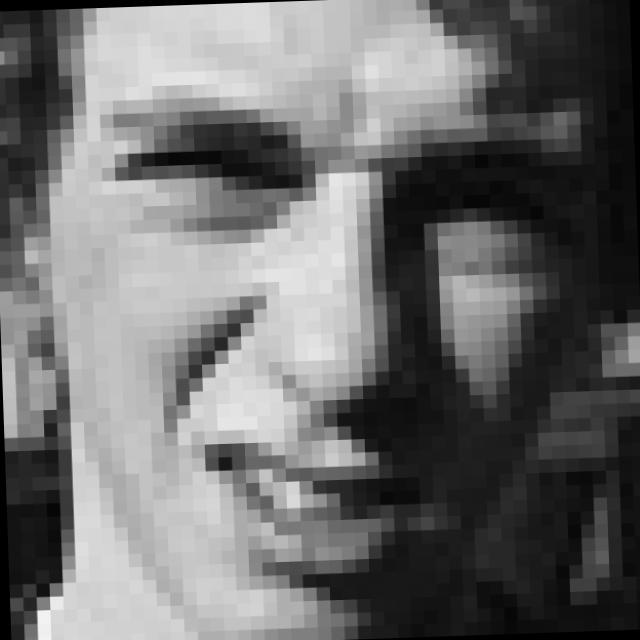disgust: (96, 88, 595, 590)
